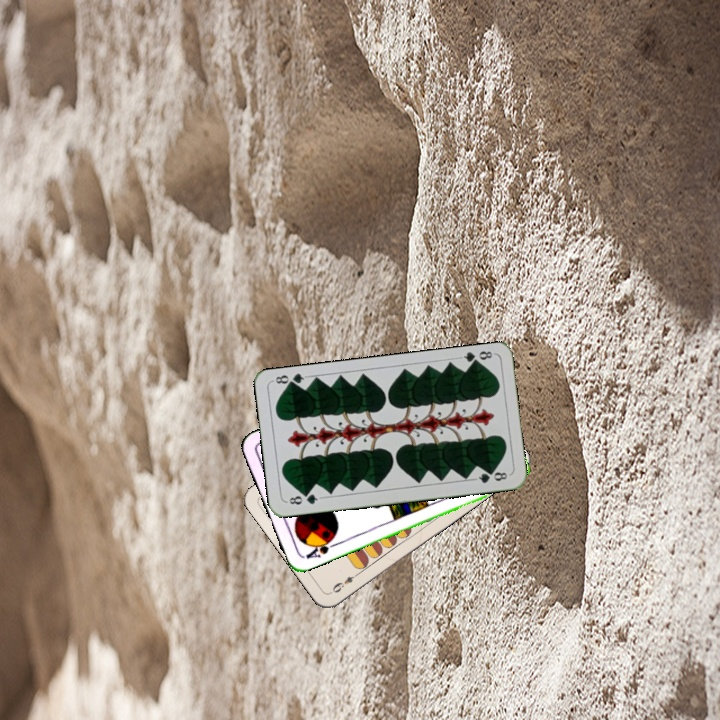E9: (328, 568, 362, 596)
G8: (456, 347, 496, 369), (283, 489, 324, 507)
SA: (302, 533, 340, 562)
